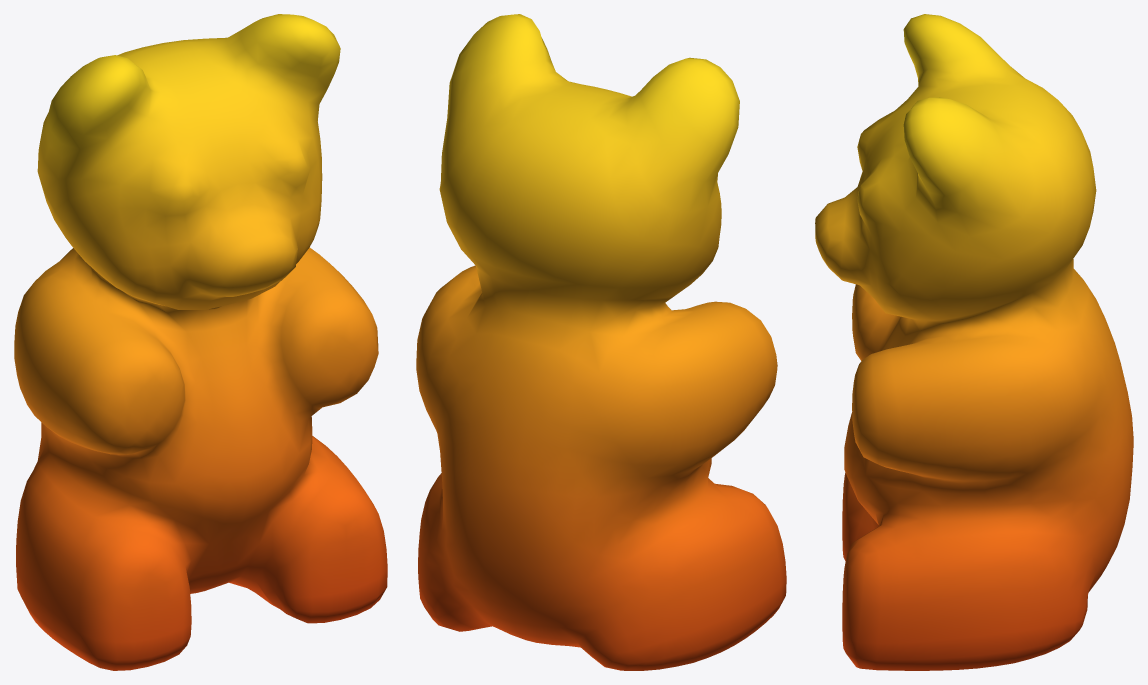
Rendered from candy_glass_18.fbx.
3 views of the same model, side by side, from view 1: azimuth 30°, elevation 25°; view 2: azimuth 150°, elevation 25°; view 3: azimuth 270°, elevation 25° (orthographic). The views are drawn at different scales.
Visible parts, largest first — view 1: c_g_18; view 2: c_g_18; view 3: c_g_18.
Part boxes in pixels (x1,y1,x2,y2): c_g_18: (14,14,387,670); c_g_18: (416,14,786,670); c_g_18: (815,14,1133,670).
Bounding box in the file's own units: 139 × 245 × 129.
